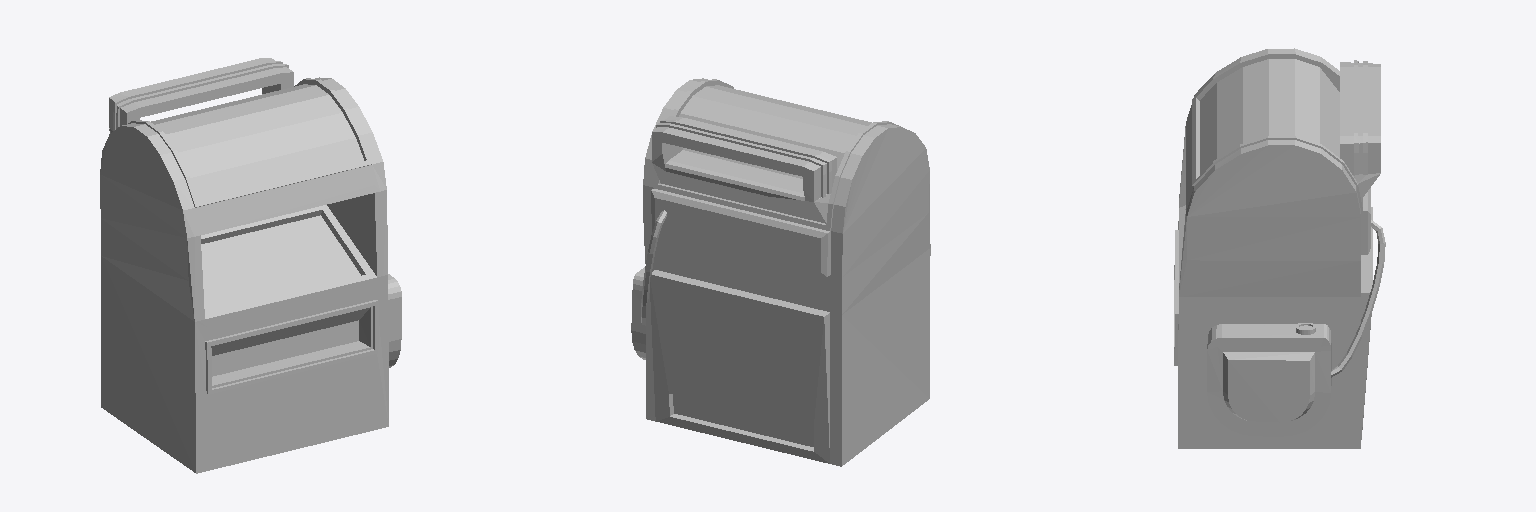
File: PaperRecycler.obj
The picture shows the model from 3 angles: view 1: azimuth 30°, elevation 25°; view 2: azimuth 150°, elevation 25°; view 3: azimuth 270°, elevation 25°; orthographic projection.
Visible parts, largest first — view 1: BézierCurve; view 2: BézierCurve, BézierCurve.001; view 3: BézierCurve, BézierCurve.001.
Part boxes in pixels (bbox=[...]): BézierCurve: bbox=[100, 58, 401, 473]; BézierCurve: bbox=[631, 78, 930, 466]; BézierCurve.001: bbox=[641, 210, 666, 325]; BézierCurve: bbox=[1174, 48, 1380, 448]; BézierCurve.001: bbox=[1331, 220, 1385, 377].
Size of the model in its own units: 7.96 by 10.08 by 6.3.